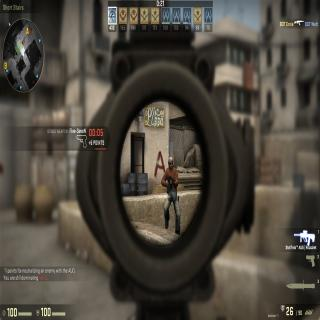T-Body: (160, 156, 182, 236)
T-Head: (165, 154, 177, 173)
